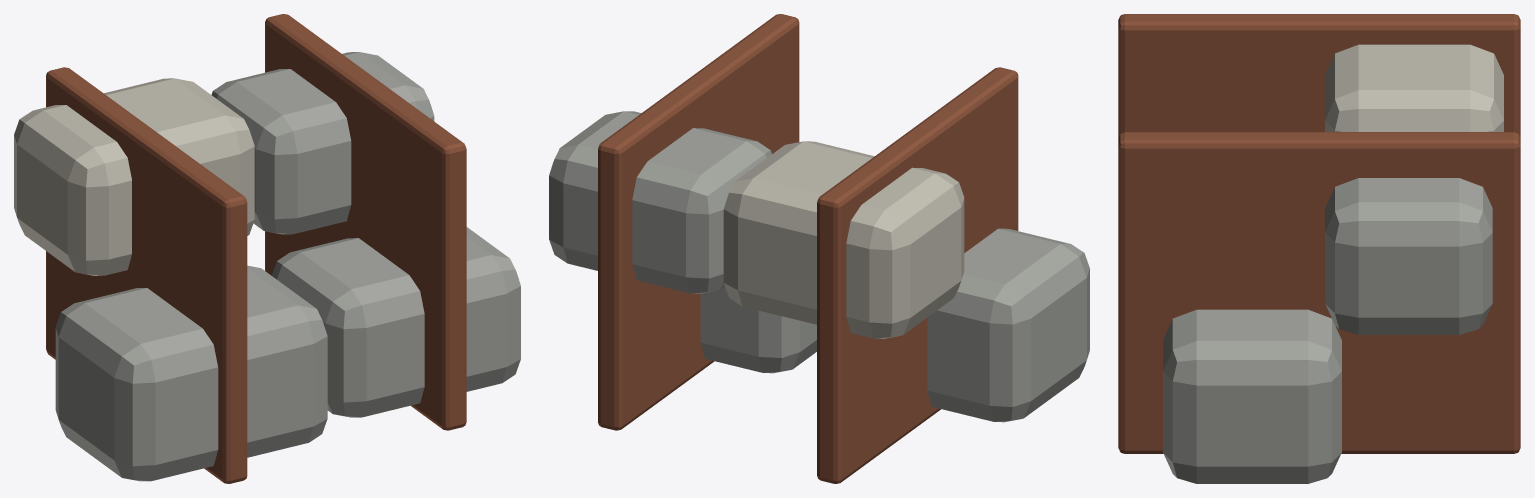
Rendered from economy_cargo_stone_v01.glb.
The picture shows the model from 3 angles, left to right: view 1: azimuth 30°, elevation 25°; view 2: azimuth 150°, elevation 25°; view 3: azimuth 270°, elevation 25°; orthographic projection. The views are drawn at different scales.
Visible parts, largest first — view 1: GEO_StoneCargoBlock_0, GEO_StoneCargoBinding.001, GEO_StoneCargoBinding, GEO_StoneCargoBlock_1, GEO_StoneCargoBlock_2, GEO_StoneCargoBlock_3; view 2: GEO_StoneCargoBinding, GEO_StoneCargoBlock_2, GEO_StoneCargoBinding.001, GEO_StoneCargoBlock_0, GEO_StoneCargoBlock_3, GEO_StoneCargoBlock_1; view 3: GEO_StoneCargoBinding.001, GEO_StoneCargoBinding, GEO_StoneCargoBlock_1, GEO_StoneCargoBlock_3, GEO_StoneCargoBlock_2.
Part boxes in pixels (bbox=[...]): GEO_StoneCargoBlock_0: bbox=[55, 265, 327, 481]; GEO_StoneCargoBinding.001: bbox=[265, 14, 466, 430]; GEO_StoneCargoBinding: bbox=[46, 67, 247, 483]; GEO_StoneCargoBlock_1: bbox=[271, 227, 520, 417]; GEO_StoneCargoBlock_2: bbox=[14, 78, 254, 275]; GEO_StoneCargoBlock_3: bbox=[211, 52, 434, 234]; GEO_StoneCargoBinding: bbox=[817, 67, 1018, 483]; GEO_StoneCargoBlock_2: bbox=[723, 141, 964, 338]; GEO_StoneCargoBinding.001: bbox=[598, 14, 799, 430]; GEO_StoneCargoBlock_0: bbox=[927, 228, 1089, 422]; GEO_StoneCargoBlock_3: bbox=[549, 111, 771, 293]; GEO_StoneCargoBlock_1: bbox=[700, 286, 816, 373]; GEO_StoneCargoBinding.001: bbox=[1118, 132, 1520, 453]; GEO_StoneCargoBinding: bbox=[1118, 14, 1520, 137]; GEO_StoneCargoBlock_1: bbox=[1163, 309, 1341, 483]; GEO_StoneCargoBlock_3: bbox=[1325, 178, 1492, 334]; GEO_StoneCargoBlock_2: bbox=[1325, 44, 1503, 131].
Bounding box in the file's own units: 0.95 × 0.62 × 0.72.
